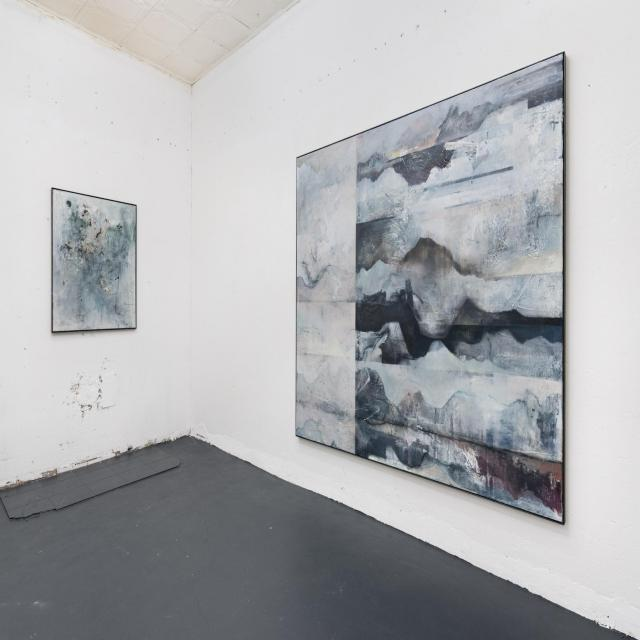painting: (296, 53, 564, 521), (51, 188, 136, 331)
